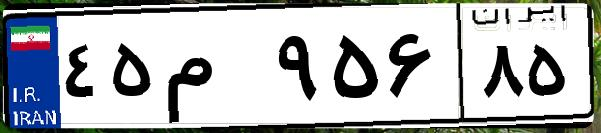4: (57, 26, 110, 100)
5: (330, 28, 385, 110), (525, 38, 570, 115), (110, 28, 158, 98)
6: (385, 28, 445, 110)
8: (475, 38, 525, 113)
9: (270, 28, 330, 110)
م: (158, 20, 270, 120)
